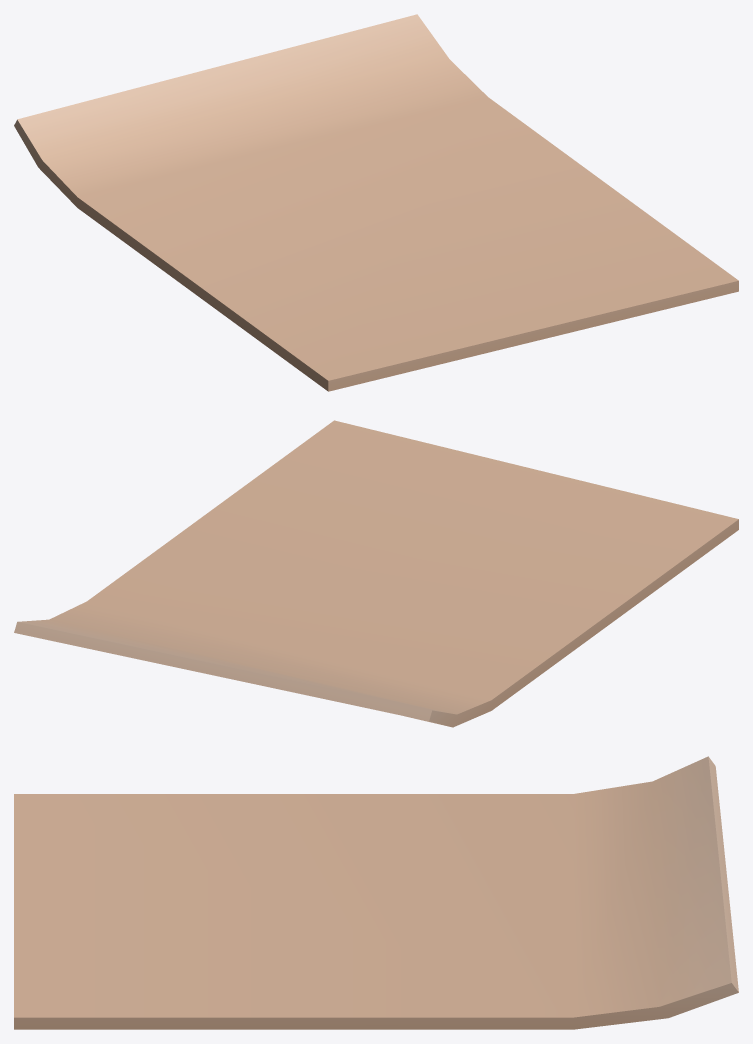
Rendered from Paper1.fbx.
The picture shows the model from 3 angles, top to bottom: view 1: azimuth 30°, elevation 25°; view 2: azimuth 150°, elevation 25°; view 3: azimuth 270°, elevation 25°; orthographic projection. The views are drawn at different scales.
Parts seen in each view (by area): view 1: Paper1; view 2: Paper1; view 3: Paper1.
Boxes of the visible parts, <box> form: Paper1: <box>14,14,738,391</box>; Paper1: <box>14,420,738,727</box>; Paper1: <box>14,756,738,1029</box>.
Size of the model in its own units: 23.45 by 2.44 by 32.13.
